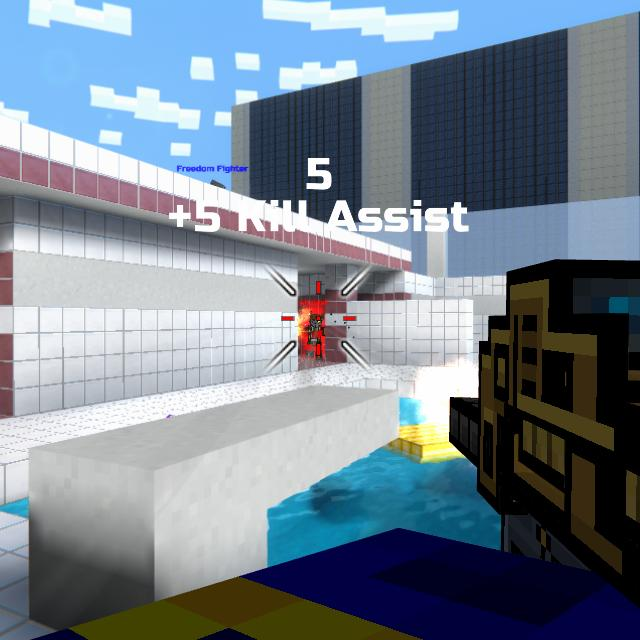Enemy: (302, 312, 325, 358)
